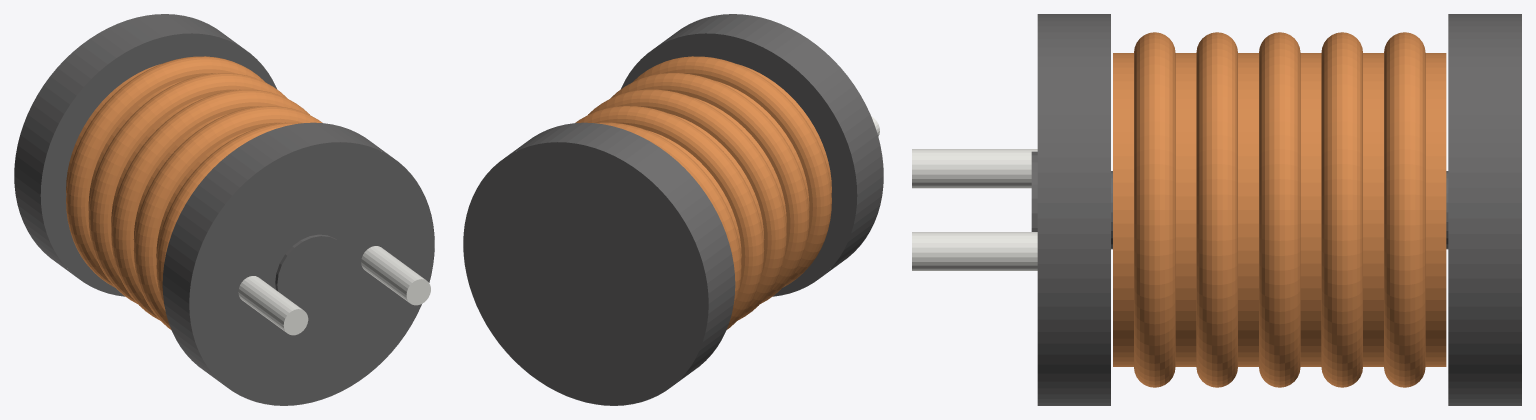
The model's file is L_Radial_D10.0mm_P5.00mm_Fastron_07P.glb.
The picture shows the model from 3 angles, left to right: view 1: azimuth 30°, elevation 25°; view 2: azimuth 150°, elevation 25°; view 3: azimuth 270°, elevation 25°; orthographic projection. The views are drawn at different scales.
Visible parts, largest first — view 1: Shape_IndexedFaceSet.009, Shape_IndexedFaceSet.007, Shape_IndexedFaceSet.025, Shape_IndexedFaceSet.024, Shape_IndexedFaceSet.018, Shape_IndexedFaceSet.010, Shape_IndexedFaceSet.020, Shape_IndexedFaceSet.006, Shape_IndexedFaceSet.016, Shape_IndexedFaceSet.002, Shape_IndexedFaceSet.013, Shape_IndexedFaceSet.011 (+7 smaller); view 2: Shape_IndexedFaceSet.026, Shape_IndexedFaceSet.025, Shape_IndexedFaceSet.007, Shape_IndexedFaceSet.005, Shape_IndexedFaceSet.006, Shape_IndexedFaceSet.010, Shape_IndexedFaceSet.002, Shape_IndexedFaceSet.018, Shape_IndexedFaceSet.020, Shape_IndexedFaceSet.008, Shape_IndexedFaceSet.014, Shape_IndexedFaceSet.004 (+2 smaller); view 3: Shape_IndexedFaceSet.007, Shape_IndexedFaceSet.025, Shape_IndexedFaceSet.020, Shape_IndexedFaceSet.002, Shape_IndexedFaceSet.018, Shape_IndexedFaceSet.006, Shape_IndexedFaceSet.010, Shape_IndexedFaceSet.004, Shape_IndexedFaceSet.014, Shape_IndexedFaceSet.021, Shape_IndexedFaceSet, Shape_IndexedFaceSet.008 (+4 smaller).
Boxes of the visible parts, <box> form: Shape_IndexedFaceSet.009: <box>189,142,434,405</box>; Shape_IndexedFaceSet.007: <box>162,122,434,405</box>; Shape_IndexedFaceSet.025: <box>14,14,276,296</box>; Shape_IndexedFaceSet.024: <box>40,33,276,296</box>; Shape_IndexedFaceSet.018: <box>88,73,287,303</box>; Shape_IndexedFaceSet.010: <box>111,89,309,320</box>; Shape_IndexedFaceSet.020: <box>66,56,264,287</box>; Shape_IndexedFaceSet.006: <box>133,106,322,329</box>; Shape_IndexedFaceSet.016: <box>277,236,350,314</box>; Shape_IndexedFaceSet.002: <box>156,122,302,310</box>; Shape_IndexedFaceSet.013: <box>238,276,302,332</box>; Shape_IndexedFaceSet.011: <box>361,246,425,302</box>; Shape_IndexedFaceSet.026: <box>463,142,708,405</box>; Shape_IndexedFaceSet.025: <box>463,122,735,405</box>; Shape_IndexedFaceSet.007: <box>621,14,883,296</box>; Shape_IndexedFaceSet.005: <box>621,33,857,296</box>; Shape_IndexedFaceSet.006: <box>610,73,809,303</box>; Shape_IndexedFaceSet.010: <box>588,89,786,320</box>; Shape_IndexedFaceSet.002: <box>633,56,831,287</box>; Shape_IndexedFaceSet.018: <box>575,106,764,329</box>; Shape_IndexedFaceSet.020: <box>595,122,741,310</box>; Shape_IndexedFaceSet.008: <box>691,97,786,226</box>; Shape_IndexedFaceSet.014: <box>670,114,764,241</box>; Shape_IndexedFaceSet.004: <box>715,81,809,210</box>; Shape_IndexedFaceSet.007: <box>1037,14,1110,405</box>; Shape_IndexedFaceSet.025: <box>1448,14,1521,405</box>; Shape_IndexedFaceSet.020: <box>1384,32,1425,387</box>; Shape_IndexedFaceSet.002: <box>1134,32,1175,387</box>; Shape_IndexedFaceSet.018: <box>1321,32,1362,387</box>; Shape_IndexedFaceSet.006: <box>1196,32,1237,387</box>; Shape_IndexedFaceSet.010: <box>1259,32,1300,387</box>; Shape_IndexedFaceSet.004: <box>1175,53,1196,366</box>; Shape_IndexedFaceSet.014: <box>1300,53,1321,366</box>; Shape_IndexedFaceSet.021: <box>1425,53,1446,366</box>; Shape_IndexedFaceSet: <box>1113,53,1133,366</box>; Shape_IndexedFaceSet.008: <box>1238,53,1258,366</box>.
Size of the model in its own units: 3.94 by 3.94 by 6.12.
